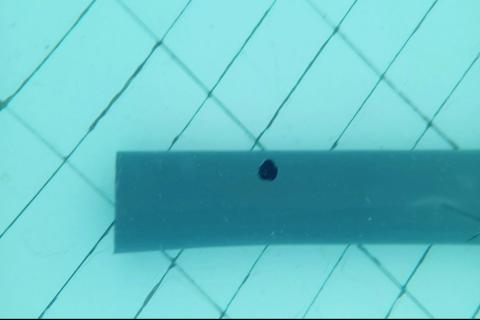kebocoran: (258, 158, 279, 182)
keretakan: (439, 200, 480, 222), (466, 232, 480, 244)
